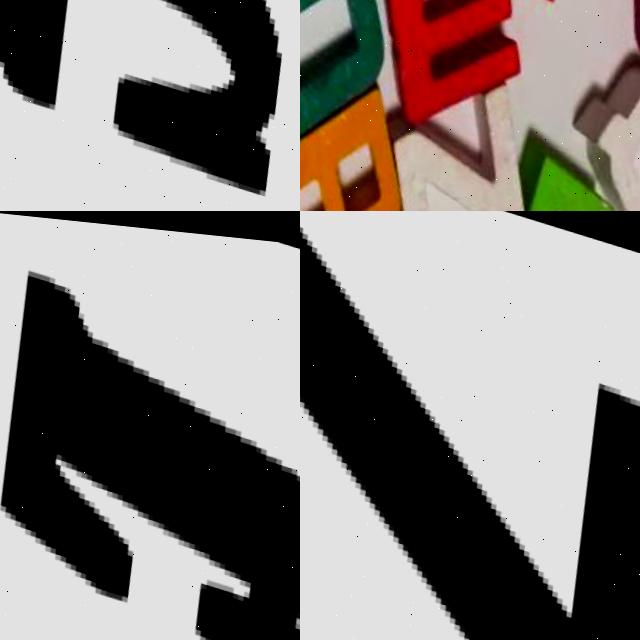D: (300, 0, 400, 146)
E: (0, 267, 300, 640)
G: (0, 0, 300, 200)
Q: (538, 41, 640, 211)
R: (300, 63, 408, 211)
W: (344, 0, 532, 117)
Z: (300, 211, 640, 640), (361, 58, 543, 211)
